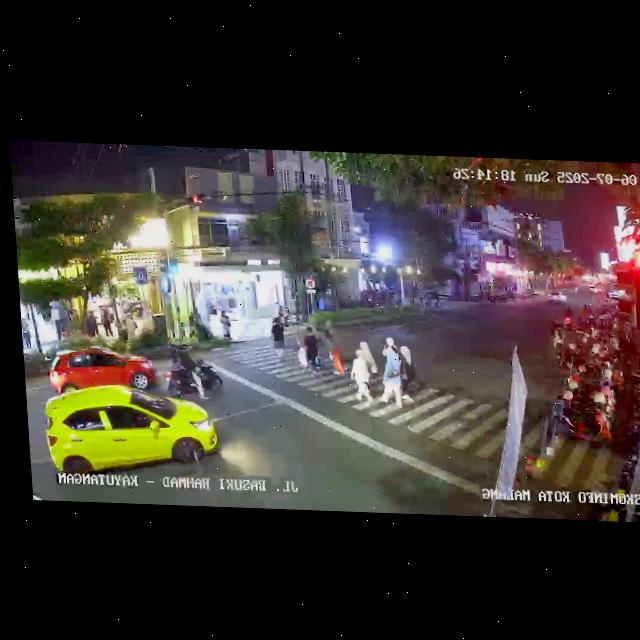car: (42, 386, 222, 492), (47, 344, 158, 399)
motorcycle: (161, 347, 226, 401)
person: (349, 348, 375, 403), (322, 328, 346, 379), (398, 346, 418, 403), (383, 354, 402, 407), (550, 323, 569, 369), (303, 326, 320, 369), (269, 316, 287, 355), (360, 341, 378, 373), (296, 330, 309, 371), (220, 310, 233, 343), (125, 311, 138, 343), (84, 310, 98, 339), (101, 306, 113, 338), (381, 337, 399, 358), (21, 314, 31, 350)
